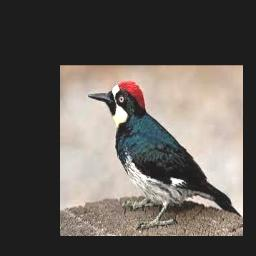Woodpecker: (87, 81, 241, 227)
